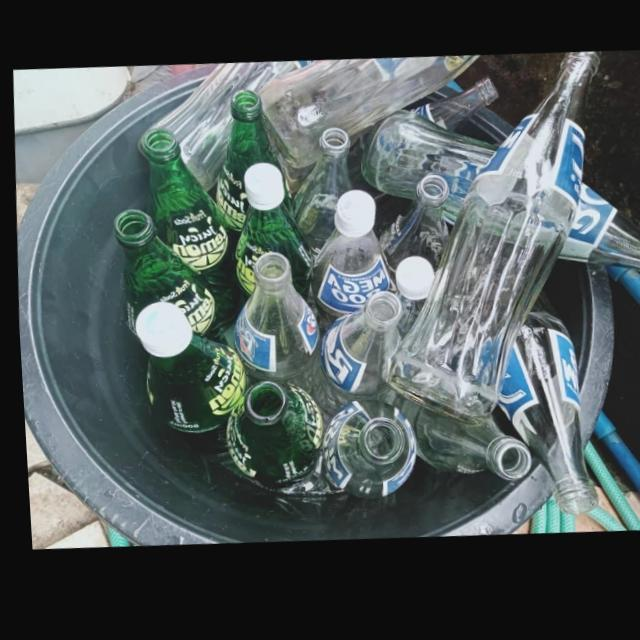glass: (381, 58, 598, 432), (256, 60, 479, 171), (139, 130, 241, 352), (491, 296, 590, 522), (136, 63, 307, 192), (131, 303, 247, 451), (109, 209, 226, 353), (357, 115, 495, 226), (229, 254, 317, 400), (385, 397, 525, 486), (306, 194, 385, 339), (213, 90, 290, 238), (231, 165, 309, 306), (308, 295, 397, 415), (220, 385, 317, 491), (372, 179, 447, 298), (318, 405, 410, 499), (289, 131, 348, 267), (554, 190, 640, 282), (405, 84, 494, 137)
